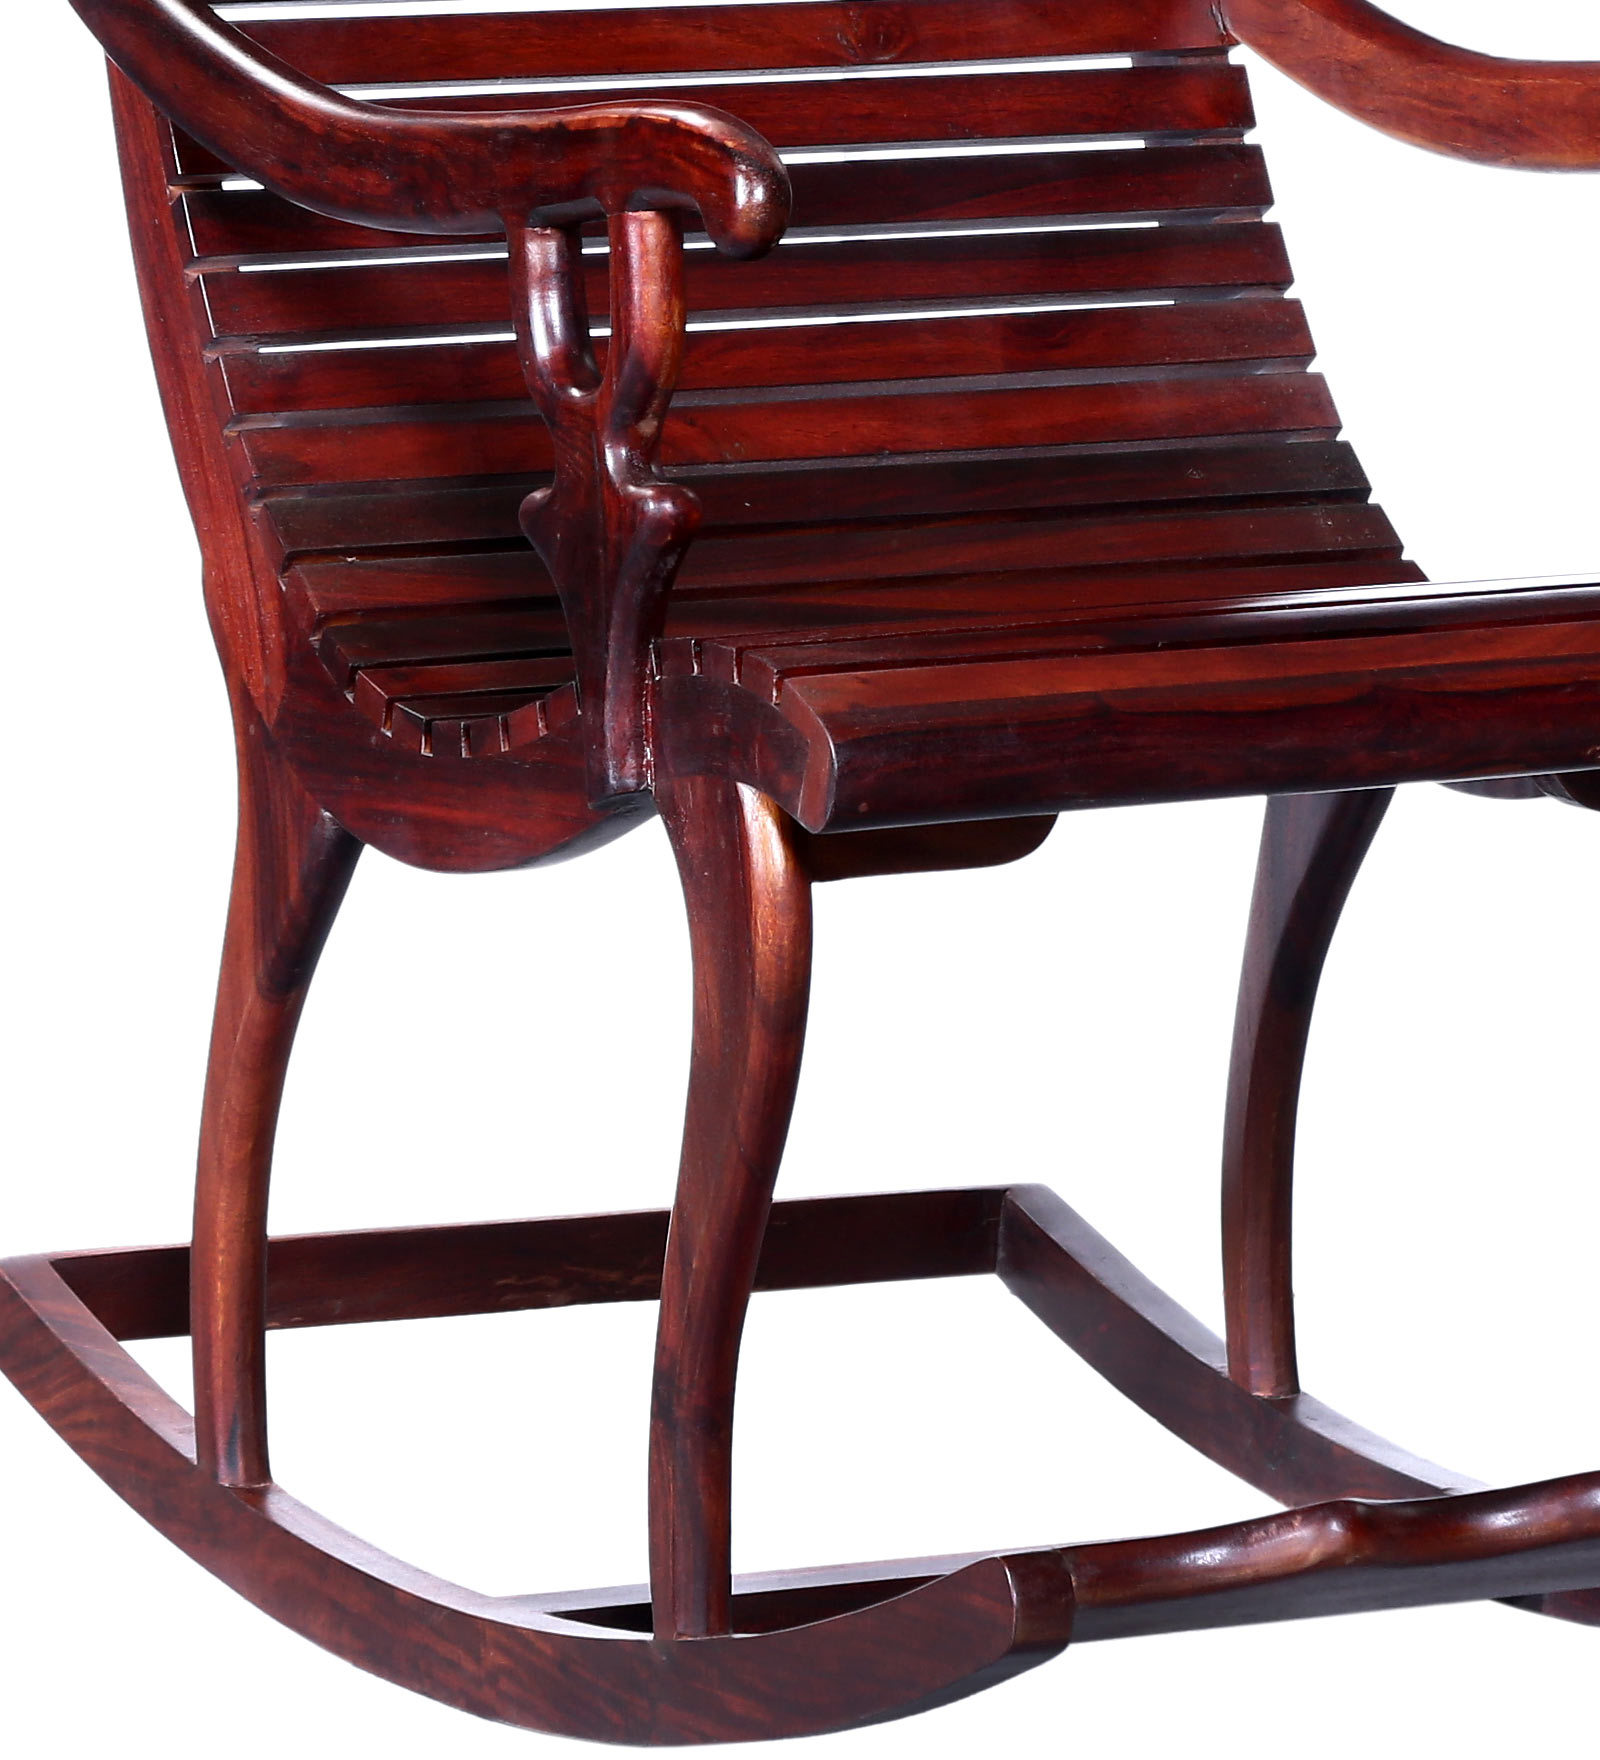Acklom Rocking Chair in Honey Oak Finish by Amberville: (35, 8, 1600, 1729)
